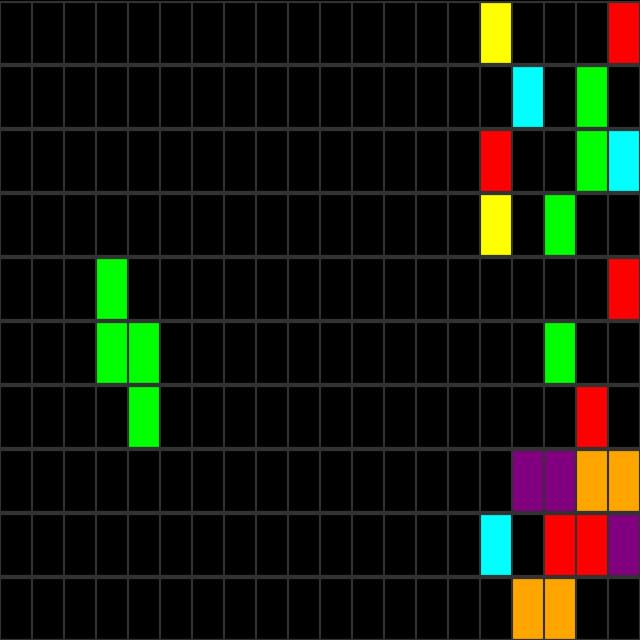Tetrimino_T: (95, 262, 159, 450)
